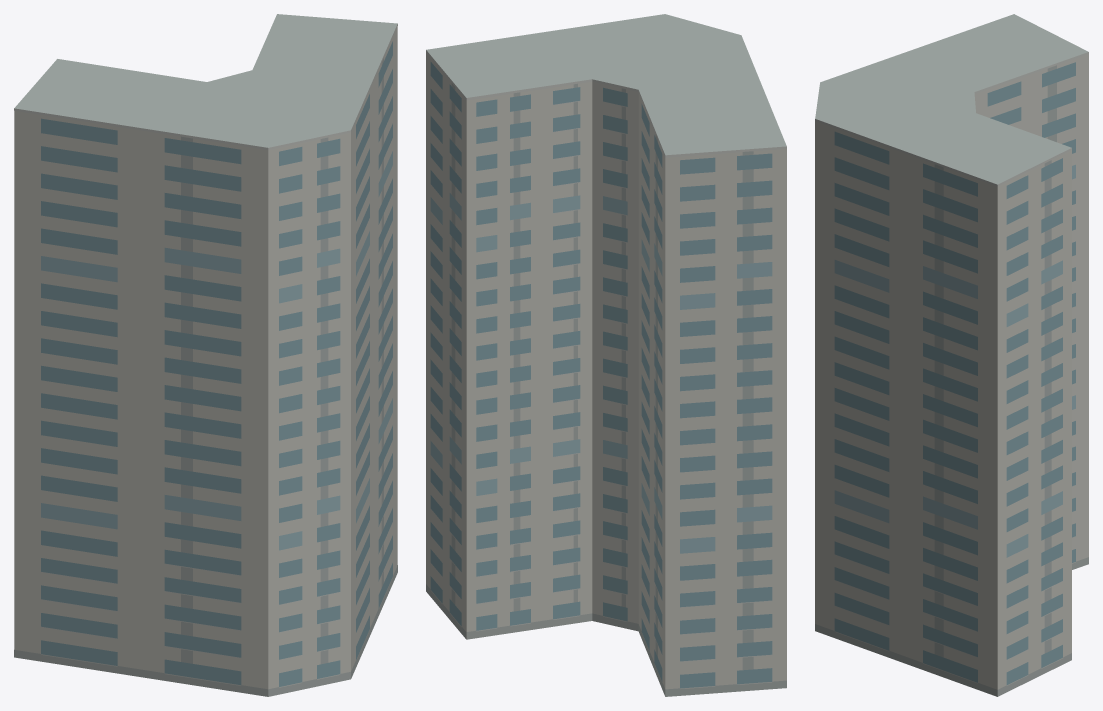
Rendered from residential-51a613be-5fee-43ab-b143-c1ec9fd64361.glb.
3 renders of one model, left to right at view 1: azimuth 30°, elevation 25°; view 2: azimuth 150°, elevation 25°; view 3: azimuth 270°, elevation 25°, orthographic. The views are drawn at different scales.
Visible parts, largest first — view 1: residential-51a613be-5fee-43ab-b143-c1ec9fd64361.tmp; view 2: residential-51a613be-5fee-43ab-b143-c1ec9fd64361.tmp; view 3: residential-51a613be-5fee-43ab-b143-c1ec9fd64361.tmp.
Part boxes in pixels (<box>): residential-51a613be-5fee-43ab-b143-c1ec9fd64361.tmp: <box>14,14,397,696</box>; residential-51a613be-5fee-43ab-b143-c1ec9fd64361.tmp: <box>426,14,786,696</box>; residential-51a613be-5fee-43ab-b143-c1ec9fd64361.tmp: <box>815,14,1088,696</box>.
Bounding box in the file's own units: 40.72 × 57 × 27.61.
